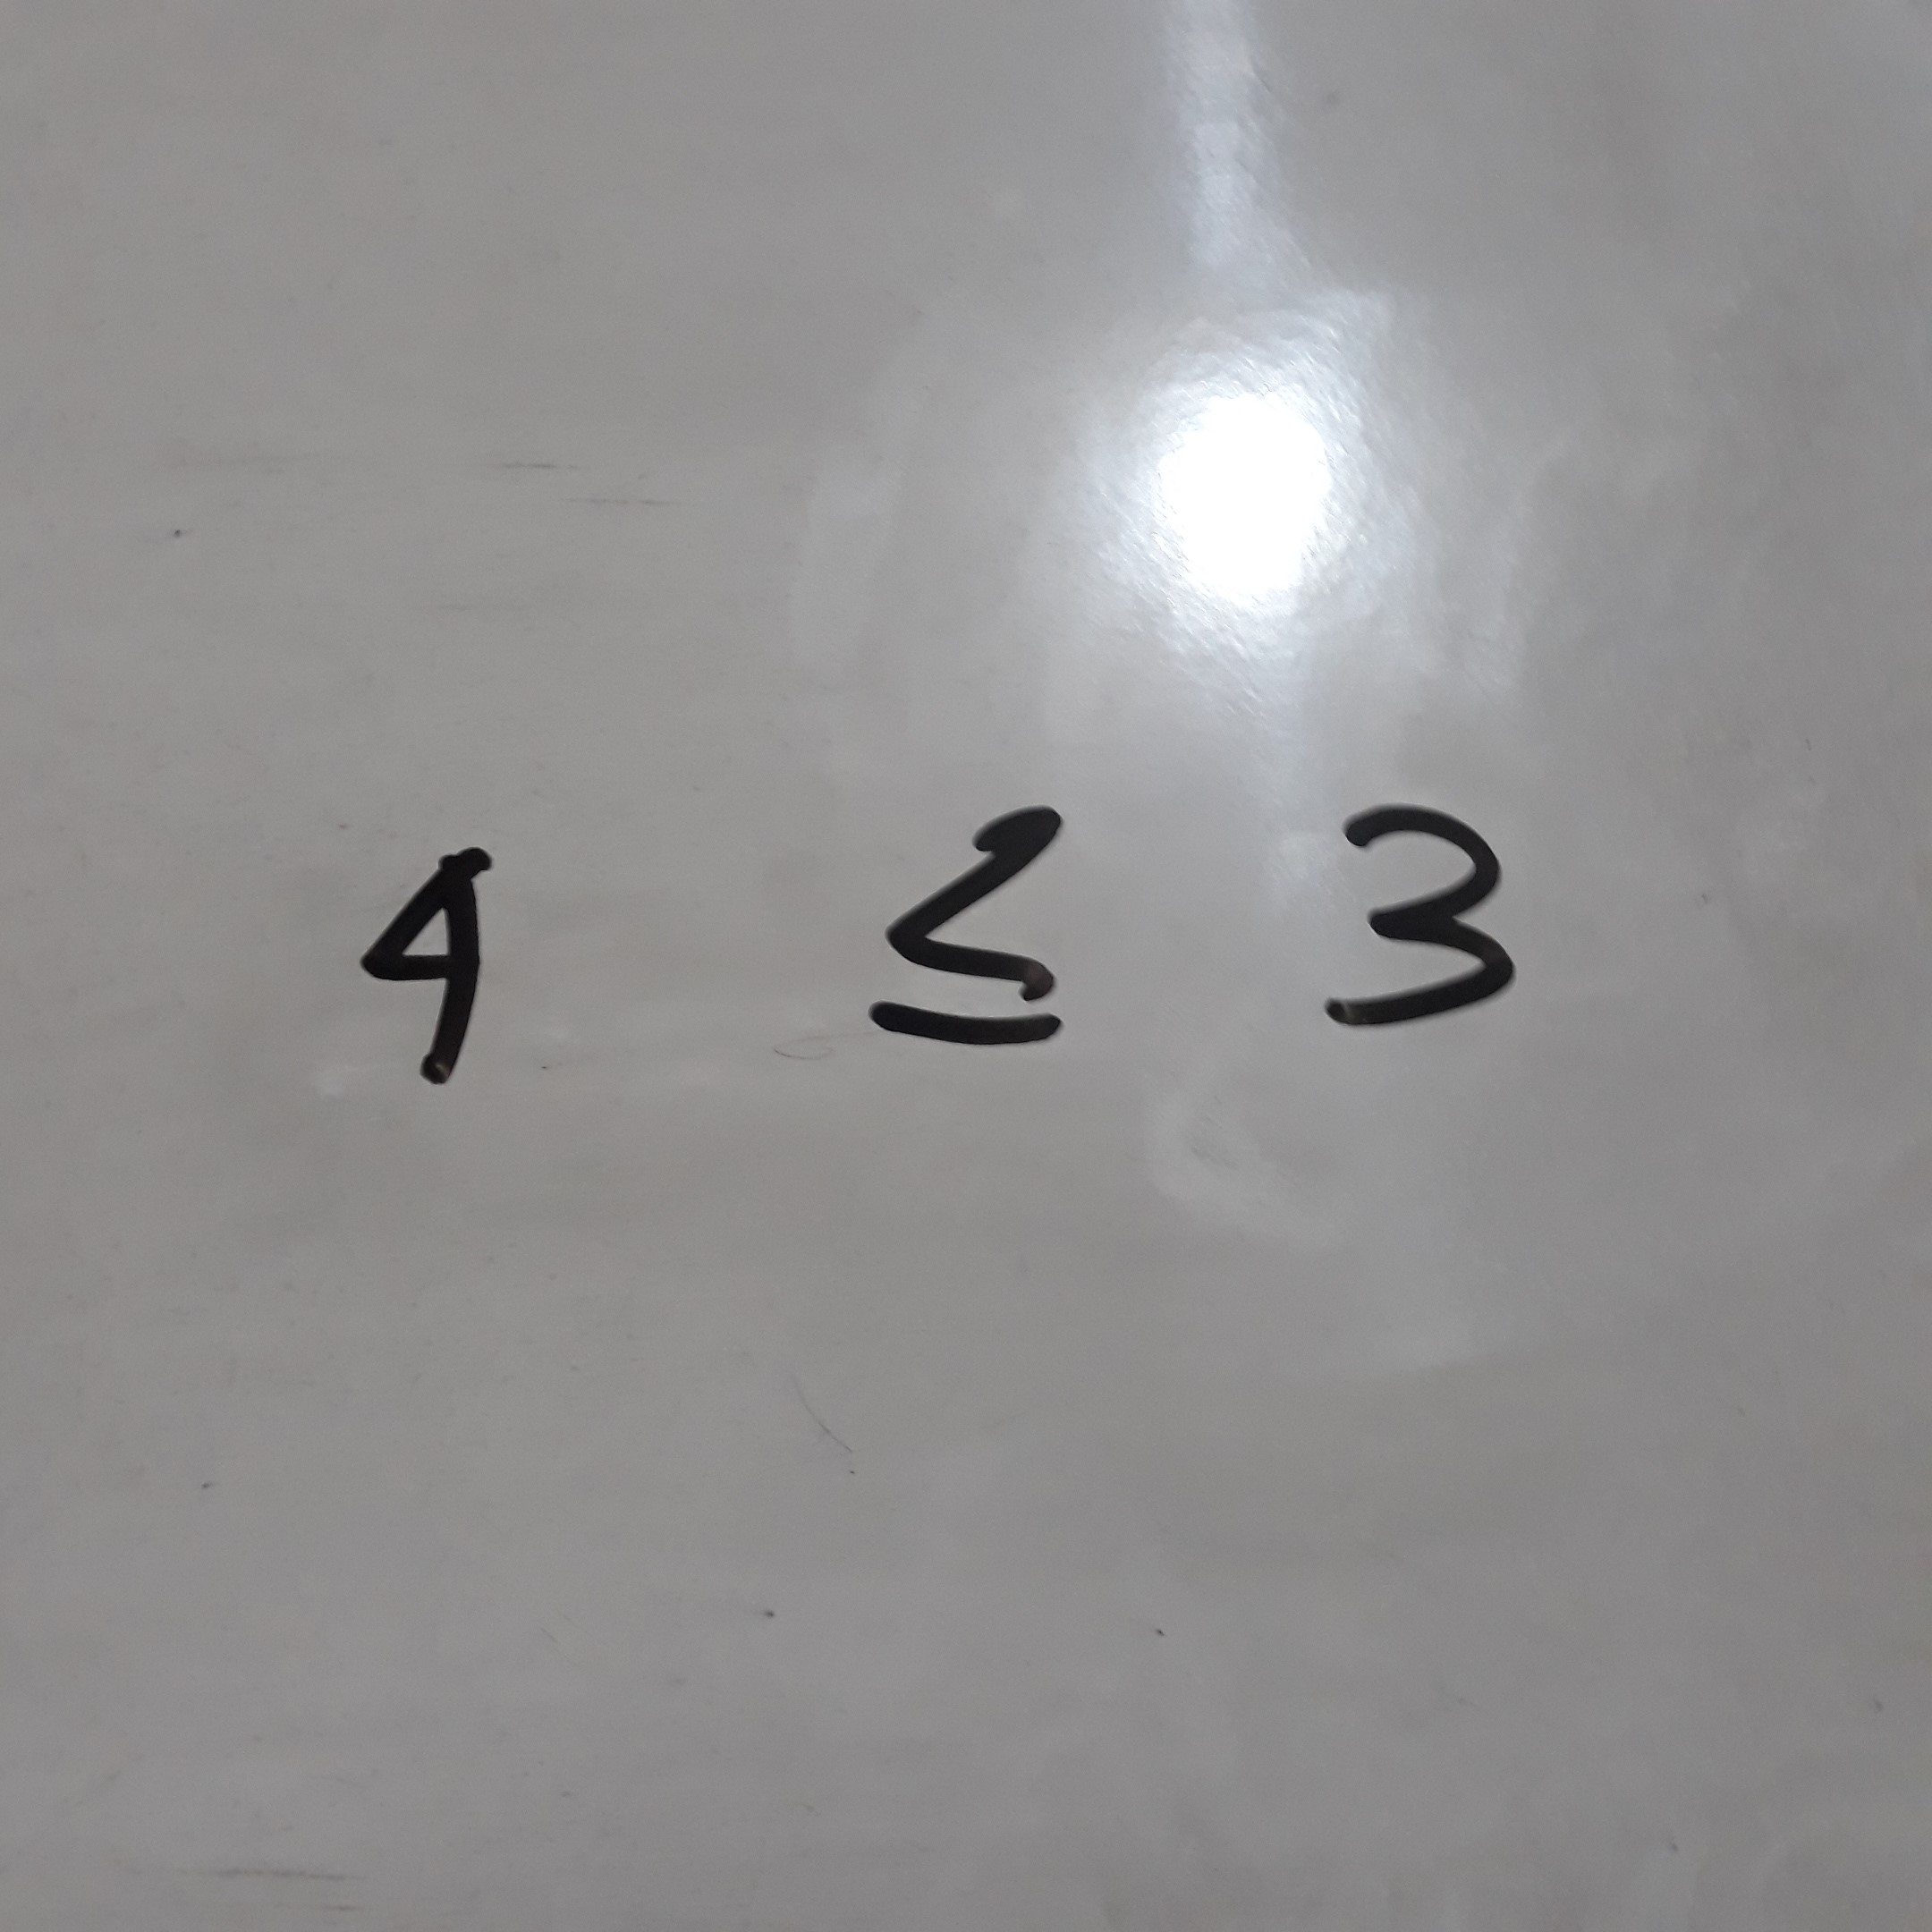lessthan-equal: (852, 778, 1094, 1074)
num3: (1303, 767, 1545, 1063)
num4: (351, 837, 530, 1110)
